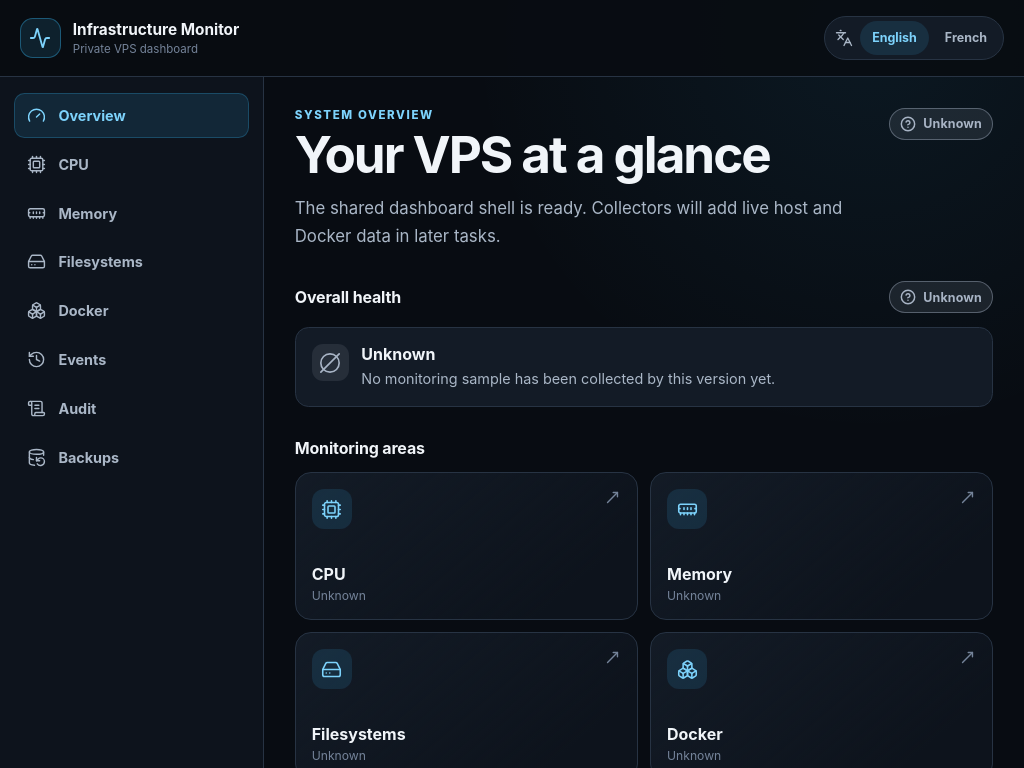
Scenario: localization › switches at runtime and persists only the selected language
Click the button "French". click: [966, 38]
box: [933,21,999,55]
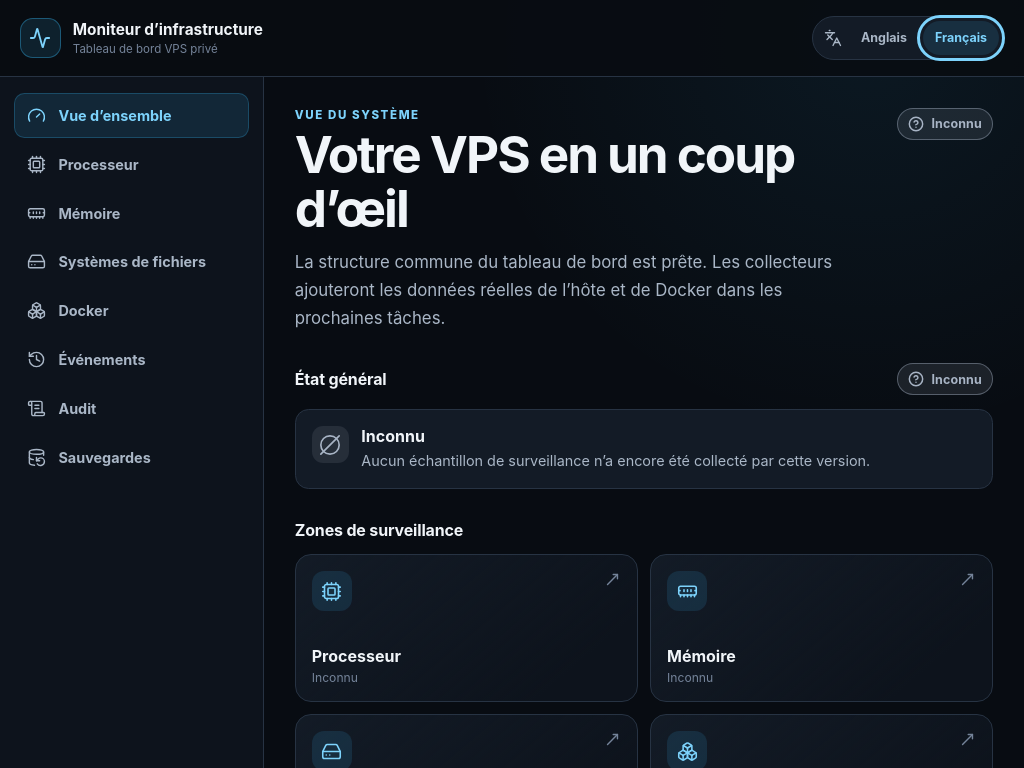
Expected: the heading "Votre VPS en un coup d’œil" is shown, [295,127,873,236]
Expected: the text "Moniteur d’infrastructure" is shown, [73,20,263,39]
